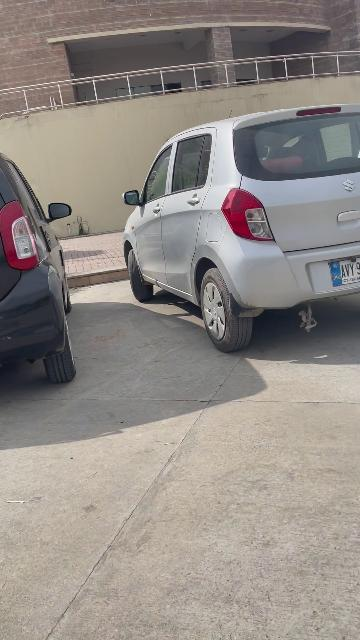plate: (329, 256, 360, 287)
